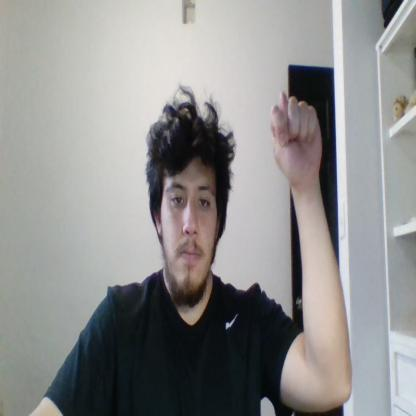T: (270, 88, 322, 183)
